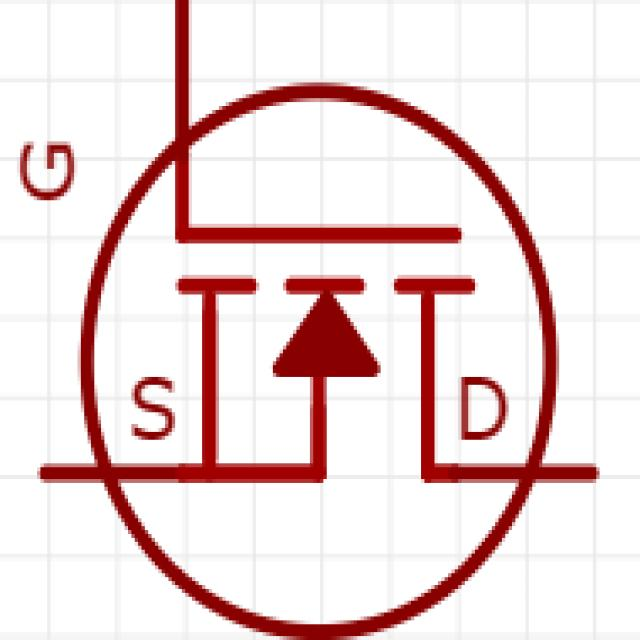nmos: (7, 10, 640, 640)
